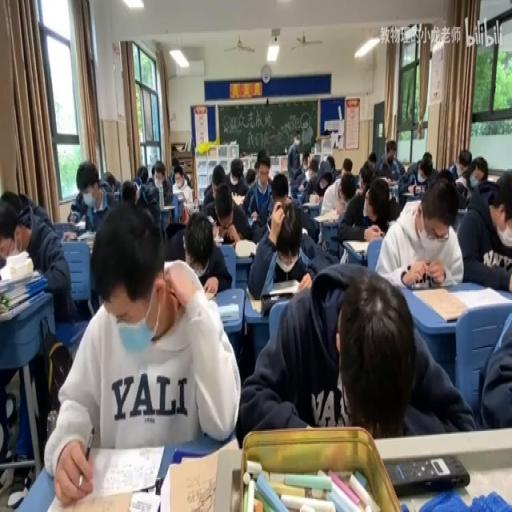calculator: (46, 444, 164, 509), (162, 438, 240, 512), (451, 284, 507, 310), (270, 278, 299, 294), (216, 302, 238, 322), (342, 238, 370, 253), (234, 238, 256, 256), (245, 290, 262, 312), (312, 208, 338, 222), (402, 199, 422, 215), (76, 230, 95, 244), (300, 199, 319, 209), (230, 194, 245, 206), (74, 219, 86, 232), (486, 174, 500, 184), (299, 179, 309, 192), (382, 178, 398, 186), (402, 189, 418, 196), (213, 233, 222, 245), (206, 214, 216, 224), (160, 204, 174, 210), (301, 226, 307, 235)
paper: (238, 263, 470, 445), (0, 190, 73, 478), (374, 175, 466, 286), (248, 185, 328, 294), (456, 170, 512, 294), (166, 202, 230, 294), (476, 302, 511, 430), (68, 160, 118, 230), (114, 180, 156, 240), (320, 164, 358, 218), (401, 151, 436, 199), (446, 149, 476, 199), (375, 140, 404, 184), (297, 158, 325, 203), (147, 159, 172, 205), (224, 157, 249, 199), (173, 164, 193, 214), (366, 189, 388, 226), (286, 135, 302, 179), (0, 188, 23, 218), (269, 174, 288, 204), (210, 164, 226, 196), (476, 179, 498, 202), (254, 150, 270, 180), (358, 164, 372, 192), (436, 168, 454, 183), (137, 166, 148, 185), (102, 172, 114, 189), (245, 166, 255, 185), (170, 155, 180, 172), (325, 154, 334, 172), (366, 152, 376, 168), (342, 158, 352, 173), (302, 156, 310, 170), (184, 174, 191, 188), (150, 164, 156, 179)
person: (386, 452, 470, 494), (258, 290, 294, 316), (410, 277, 429, 289)
